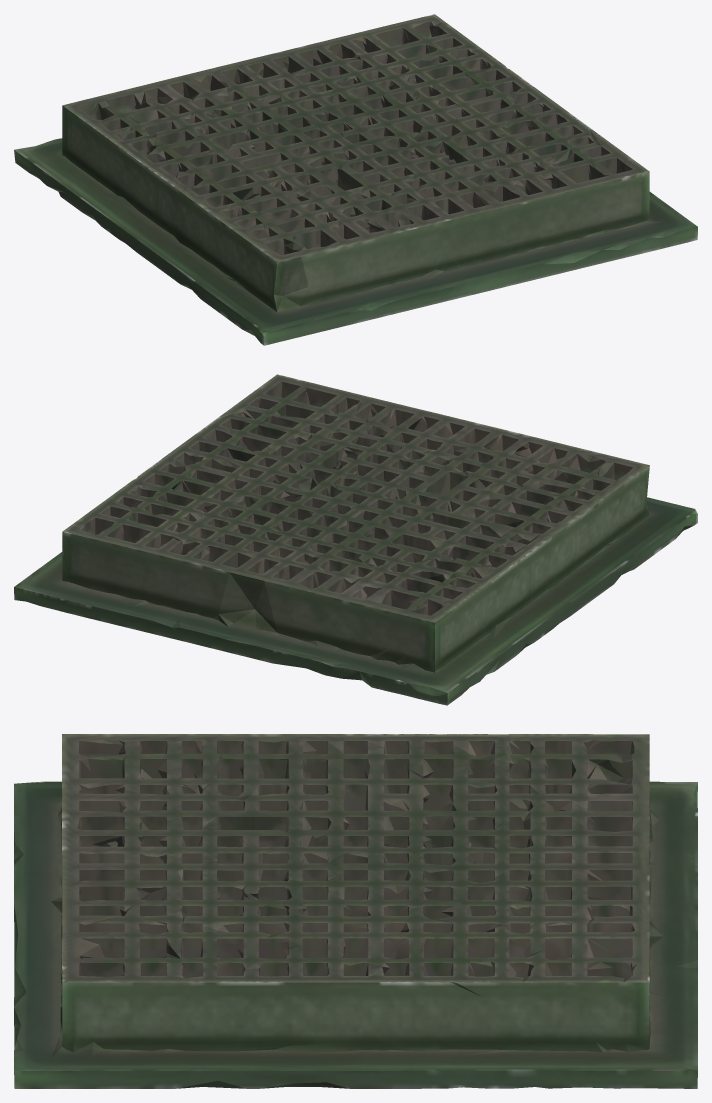
File: codebreakers_binary.glb
The picture shows the model from 3 angles, top to bottom: view 1: azimuth 30°, elevation 25°; view 2: azimuth 150°, elevation 25°; view 3: azimuth 270°, elevation 25°; orthographic projection. The views are drawn at different scales.
Visible parts, largest first — view 1: codebreakers_binary; view 2: codebreakers_binary; view 3: codebreakers_binary.
Part boxes in pixels (x1,y1,x2,y2): codebreakers_binary: [14, 14, 697, 345]; codebreakers_binary: [14, 374, 697, 705]; codebreakers_binary: [14, 734, 697, 1088].
Size of the model in its own units: 1.89 by 0.2651 by 1.89.
1 material, 1 textured.
